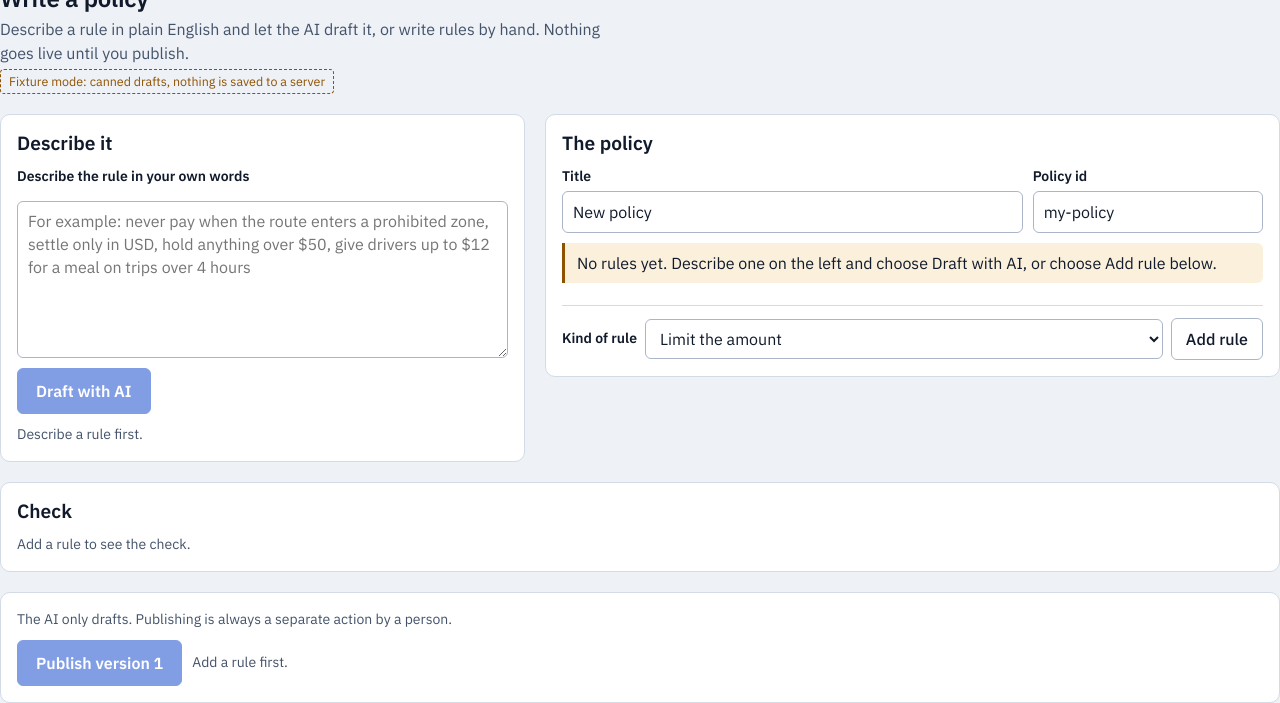
Test: AuthorView › lists unsupported items, badges AI drafts, and never publishes by itself
This screenshot has width=1280, height=703.
Type "hold anything over $50, give drivers up to $12 for a meal" into the text box labelled "Describe the rule in your own words" at x=262, y=279, box [17,201,508,358]
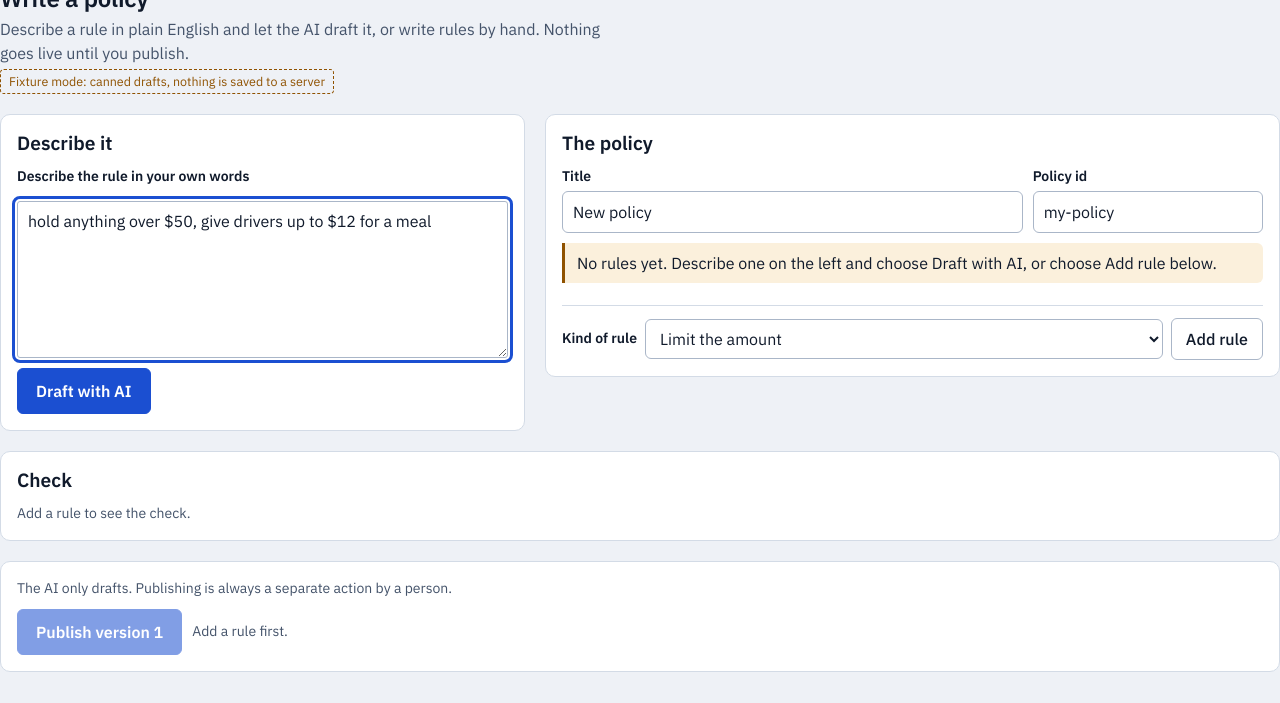
Click the button "Draft with AI" at x=84, y=391, box [17,368,151,414]
(page scrolled)
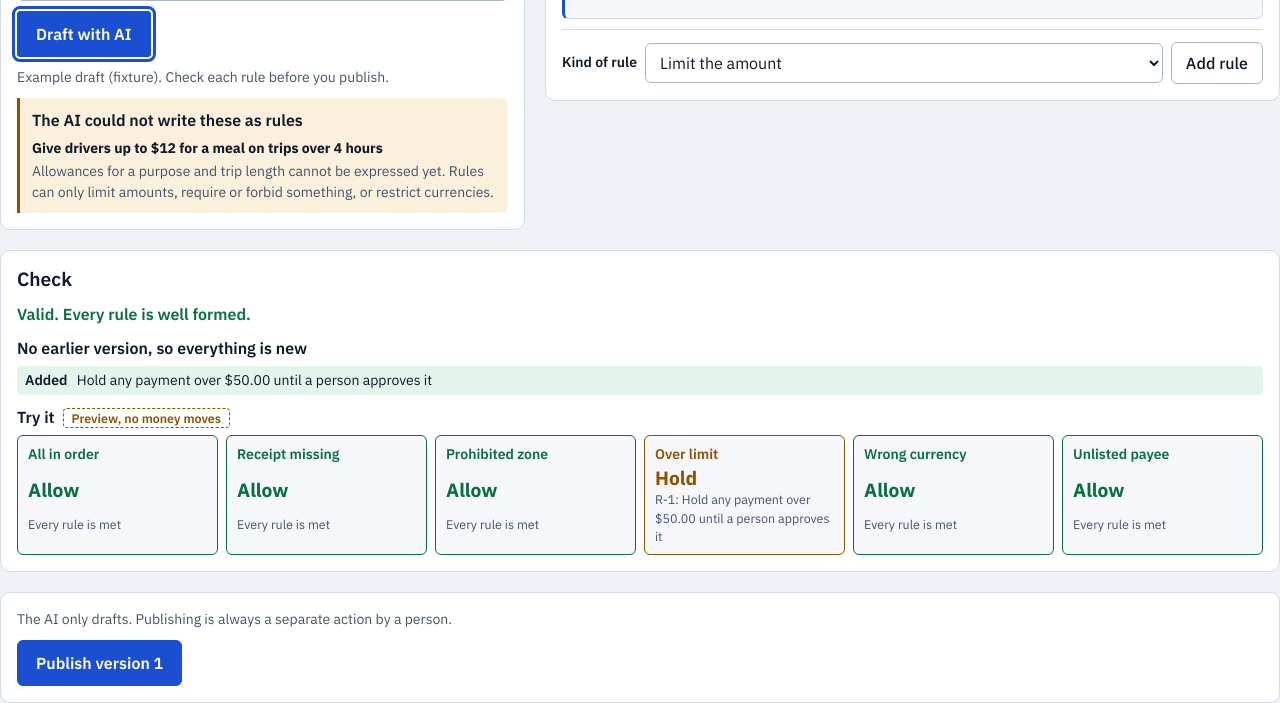
Expected: the heading "The AI could not write these as rules" is shown, [32,110,303,130]
Expected: the text "Allowances for a purpose" is shown, [32,162,494,201]
Expected: the text "Example draft (fixture). Check each rule before you publish." is shown, [17,68,389,86]
